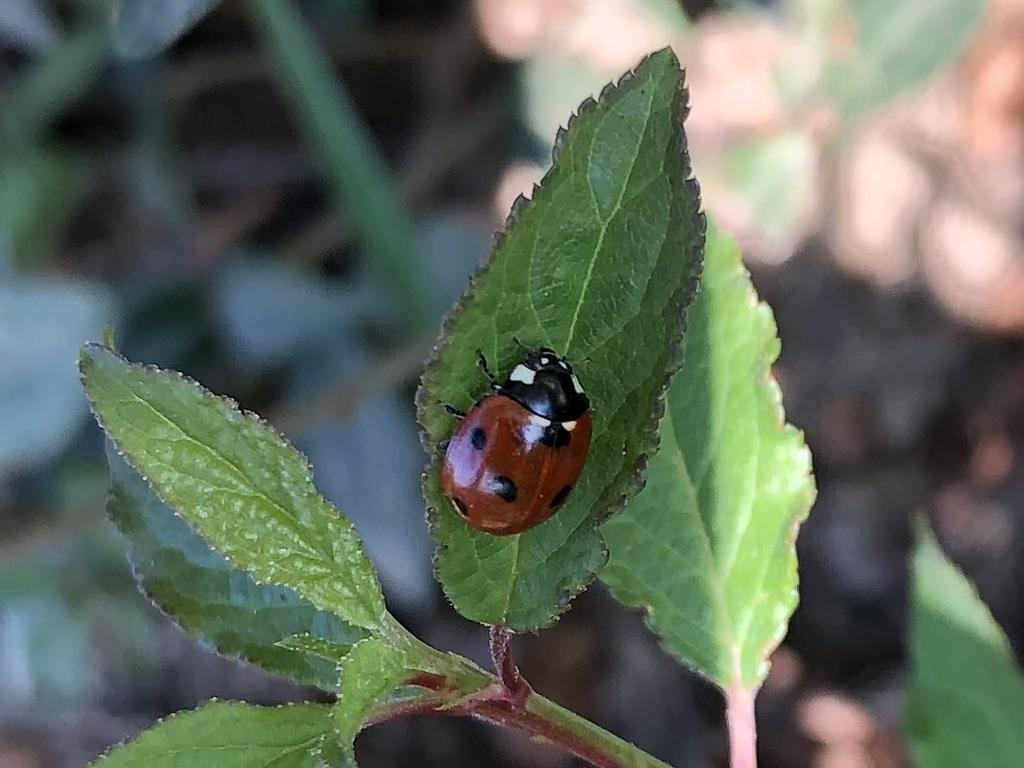ladybug: (433, 335, 599, 537)
